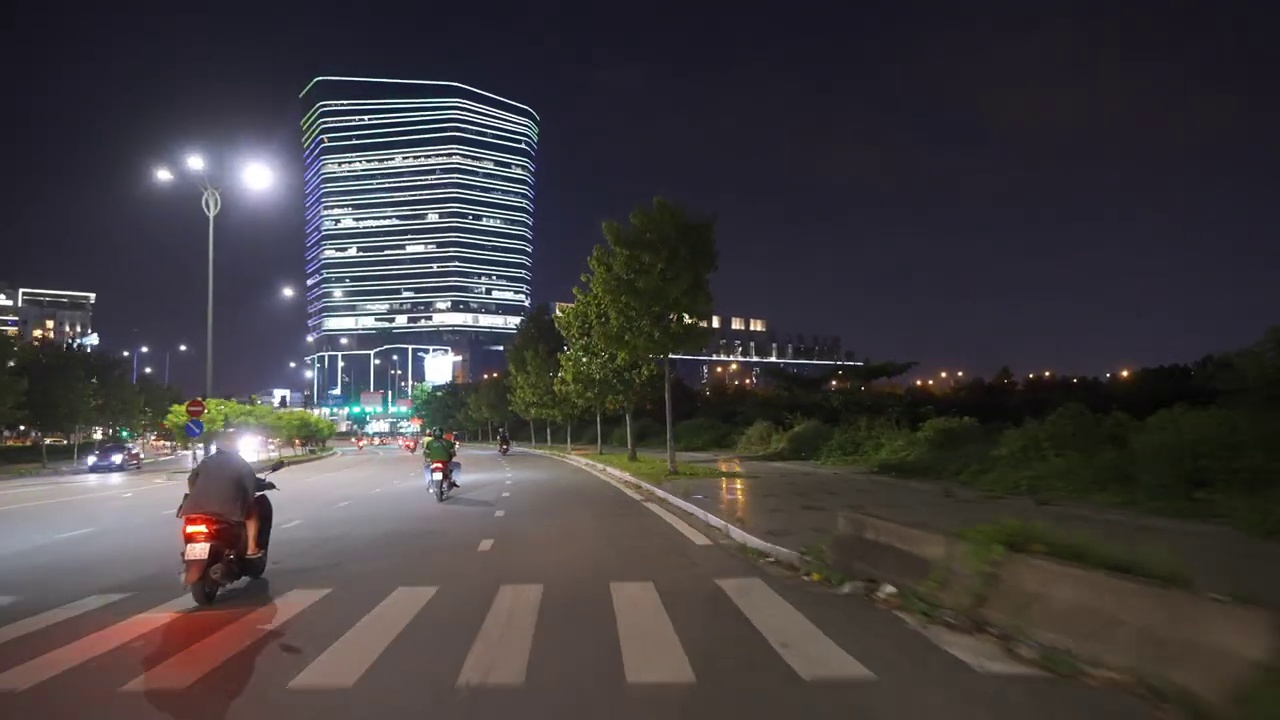cam_nguoc_chieu: (185, 400, 205, 418)
huong_phai_di_vong: (185, 419, 203, 438)
